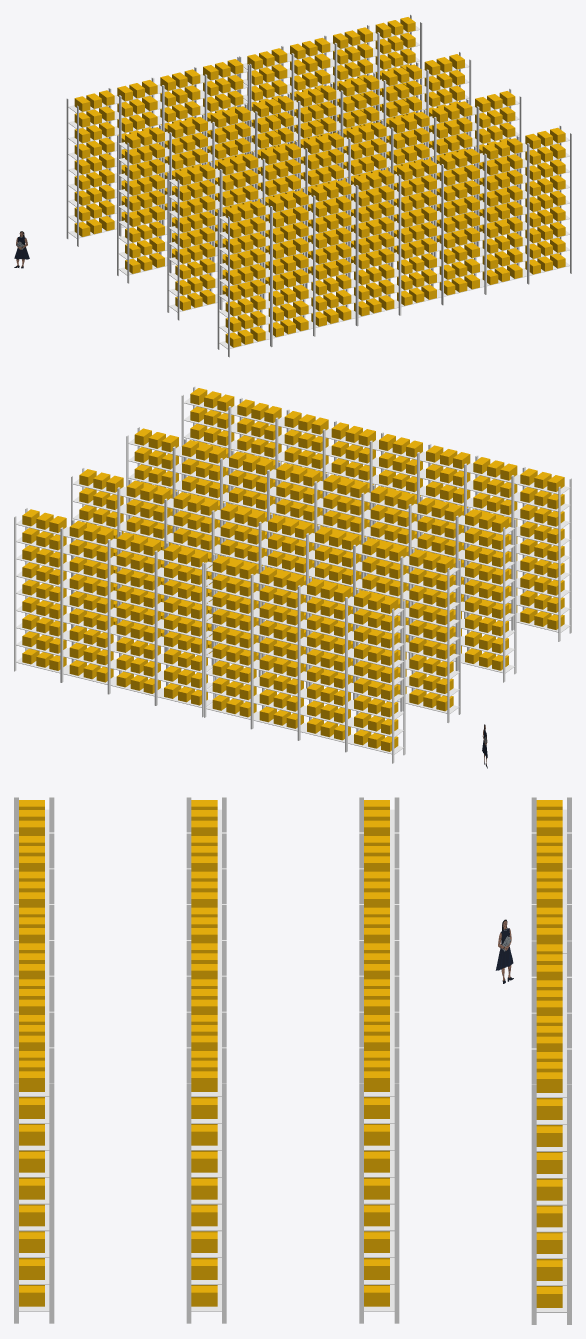
File: vai.dae
3 views of the same model, one above another, from view 1: azimuth 30°, elevation 25°; view 2: azimuth 150°, elevation 25°; view 3: azimuth 270°, elevation 25° (orthographic). The views are drawn at different scales.
Parts seen in each view (by area): view 1: SketchUp (×5); view 2: SketchUp (×5); view 3: SketchUp (×5).
Boxes of the visible parts, left/top/right/bottom form: SketchUp (×5): left=66, top=14, right=571, bottom=357; SketchUp (×5): left=14, top=386, right=571, bottom=763; SketchUp (×5): left=14, top=797, right=571, bottom=1324.
Size of the model in its own units: 730 by 498 by 238.
